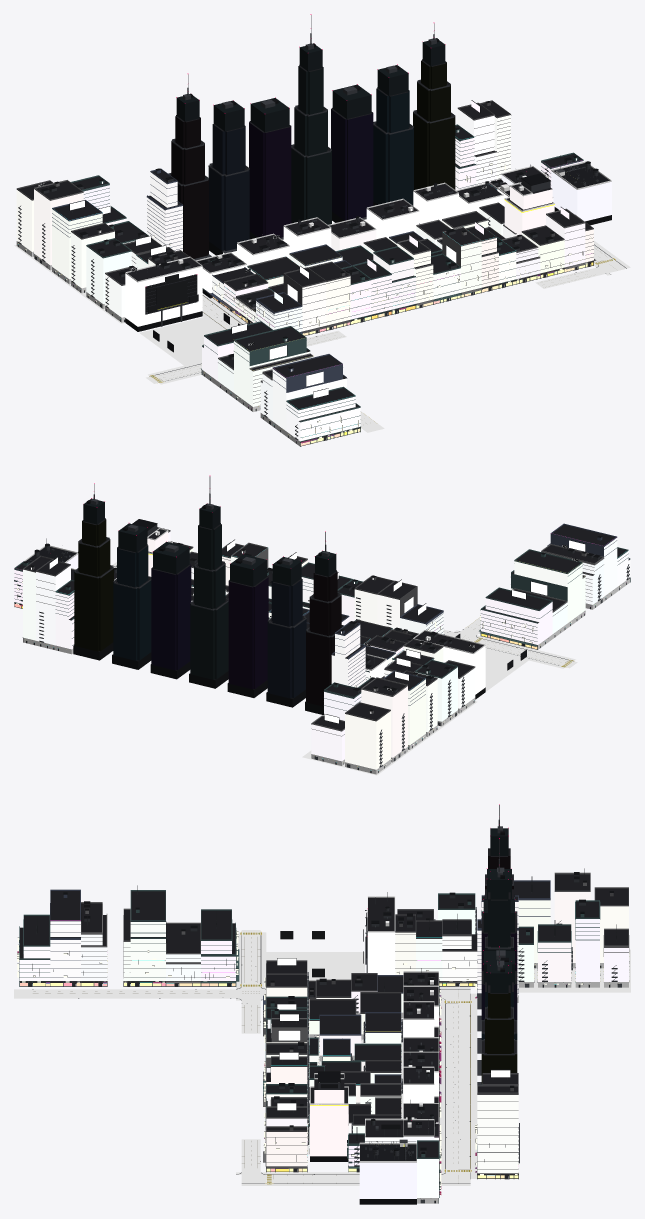
The model's file is world-high-east.glb.
3 views of the same model, one above another, from view 1: azimuth 30°, elevation 25°; view 2: azimuth 150°, elevation 25°; view 3: azimuth 270°, elevation 25° (orthographic). The views are drawn at different scales.
Parts seen in each view (by area): view 1: corpo_corporate, corpo_facade, plaza_facade, corpo_roof, corpo_trim, plaza_roof, corpo_crown_glass, plaza_trim, rooftop_facade, plaza_sidewalk, plaza_board_frame, plaza_facade_t0 (+16 smaller); view 2: corpo_corporate, plaza_facade, corpo_facade, plaza_roof, corpo_roof, corpo_crown_glass, plaza_trim, corpo_trim, corpo_dark, plaza_sidewalk, plaza_concrete, corpo_metal_detail (+8 smaller); view 3: plaza_facade, corpo_roof, plaza_roof, corpo_facade, corpo_trim, plaza_trim, rooftop_facade, corpo_corporate, plaza_asphalt, corpo_asphalt, plaza_sidewalk, afterlife_asphalt (+20 smaller).
Part boxes in pixels (<box>): corpo_corporate: <box>171,60,455,258</box>; corpo_facade: <box>147,109,593,331</box>; plaza_facade: <box>16,185,360,441</box>; corpo_roof: <box>149,59,591,311</box>; corpo_trim: <box>146,100,596,335</box>; plaza_roof: <box>18,176,358,421</box>; corpo_crown_glass: <box>176,40,445,132</box>; plaza_trim: <box>16,175,360,446</box>; rooftop_facade: <box>504,171,611,235</box>; plaza_sidewalk: <box>14,245,221,384</box>; plaza_board_frame: <box>38,182,358,437</box>; plaza_facade_t0: <box>125,266,202,326</box>; corpo_corporate: <box>74,518,341,706</box>; plaza_facade: <box>311,538,630,769</box>; corpo_facade: <box>23,531,443,687</box>; plaza_roof: <box>313,525,629,730</box>; corpo_roof: <box>25,518,441,669</box>; corpo_crown_glass: <box>83,498,336,586</box>; plaza_trim: <box>311,523,630,731</box>; corpo_trim: <box>22,527,444,687</box>; corpo_dark: <box>73,642,323,715</box>; plaza_sidewalk: <box>302,630,575,775</box>; plaza_concrete: <box>311,578,629,774</box>; corpo_metal_detail: <box>26,498,431,685</box>; plaza_facade: <box>19,892,628,981</box>; corpo_roof: <box>266,848,518,1135</box>; plaza_roof: <box>20,874,628,962</box>; corpo_facade: <box>266,902,518,1173</box>; corpo_trim: <box>263,895,518,1179</box>; plaza_trim: <box>19,872,628,986</box>; rooftop_facade: <box>310,1090,416,1198</box>; corpo_corporate: <box>481,856,517,1083</box>; plaza_asphalt: <box>14,930,264,1033</box>; corpo_asphalt: <box>260,989,470,1139</box>; plaza_sidewalk: <box>236,932,630,1000</box>; afterlife_asphalt: <box>238,1139,470,1183</box>.
Size of the model in its own units: 474 by 193 by 450.
